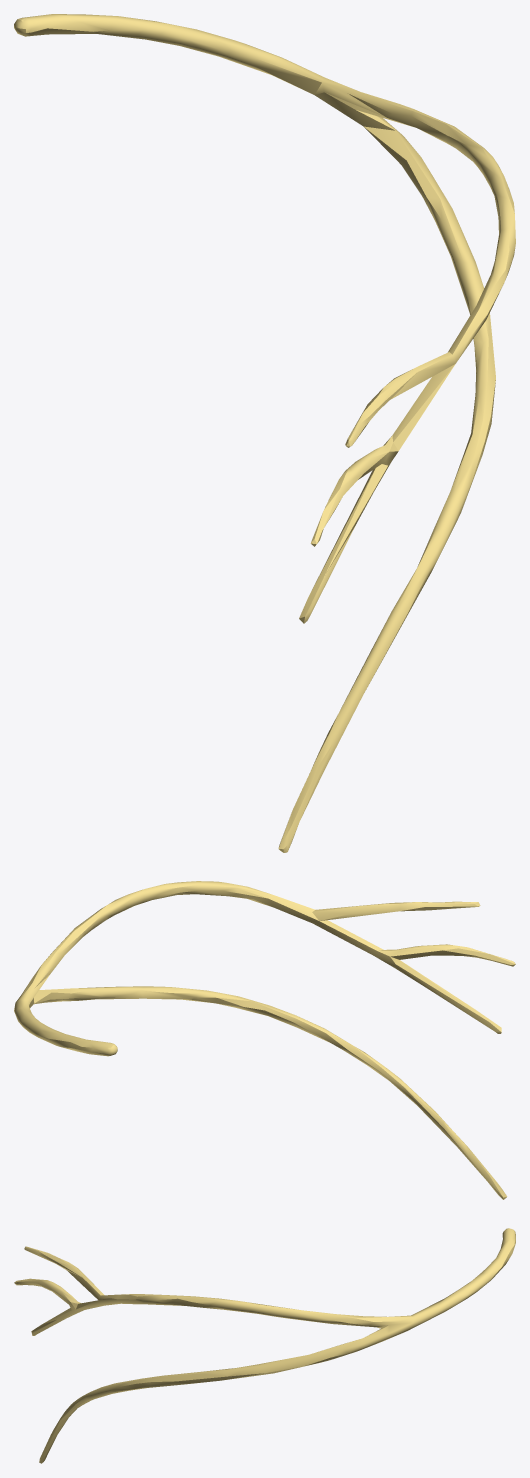
Rendered from fma55173_fj4257.glb.
3 views of the same model, one above another, from view 1: azimuth 30°, elevation 25°; view 2: azimuth 150°, elevation 25°; view 3: azimuth 270°, elevation 25° (orthographic). The views are drawn at different scales.
Visible parts, largest first — view 1: FMA55173_FJ4257; view 2: FMA55173_FJ4257; view 3: FMA55173_FJ4257.
Part boxes in pixels (x1,y1,x2,y2): FMA55173_FJ4257: (14,14,515,852); FMA55173_FJ4257: (14,881,515,1199); FMA55173_FJ4257: (14,1228,515,1463).
Size of the model in its own units: 0.0236 by 0.0269 by 0.0441.
